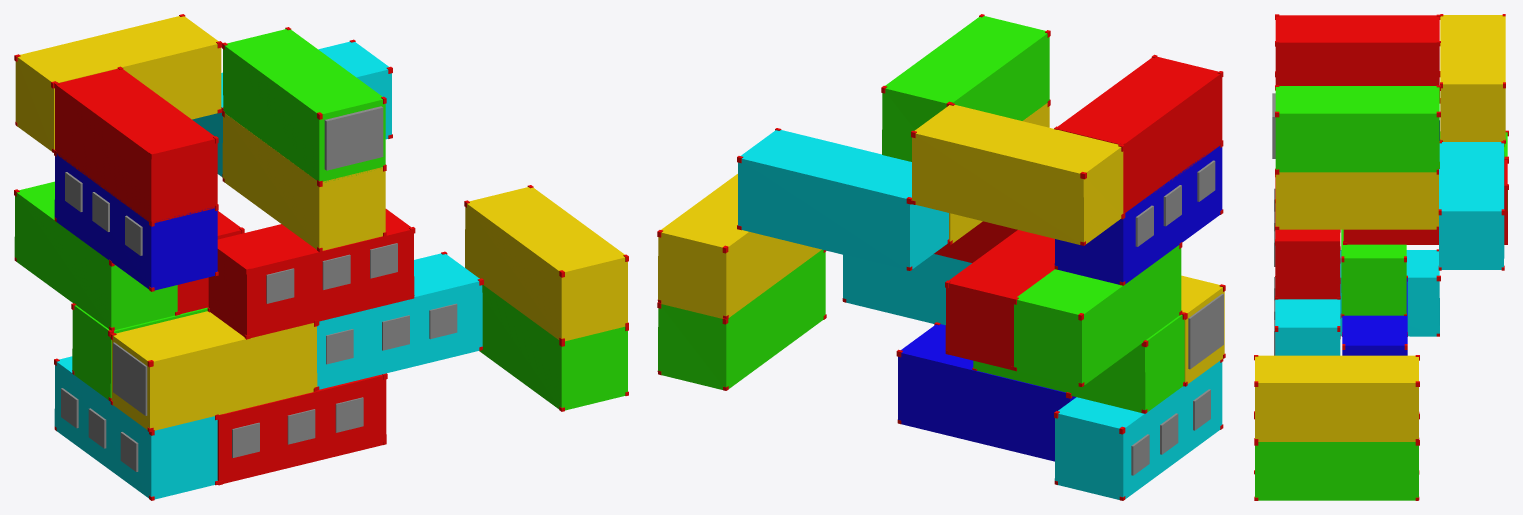
Rendered from ParentPart03FBX.FBX.
The picture shows the model from 3 angles, left to right: view 1: azimuth 30°, elevation 25°; view 2: azimuth 150°, elevation 25°; view 3: azimuth 270°, elevation 25°; orthographic projection. The views are drawn at different scales.
Visible parts, largest first — view 1: ParentPart3; view 2: ParentPart3; view 3: ParentPart3.
Boxes of the visible parts, x1,y1,x2,y2 form: ParentPart3: (14, 14, 628, 500); ParentPart3: (657, 14, 1225, 500); ParentPart3: (1254, 14, 1508, 500).
Bounding box in the file's own units: 5.74 × 3.19 × 4.07.
